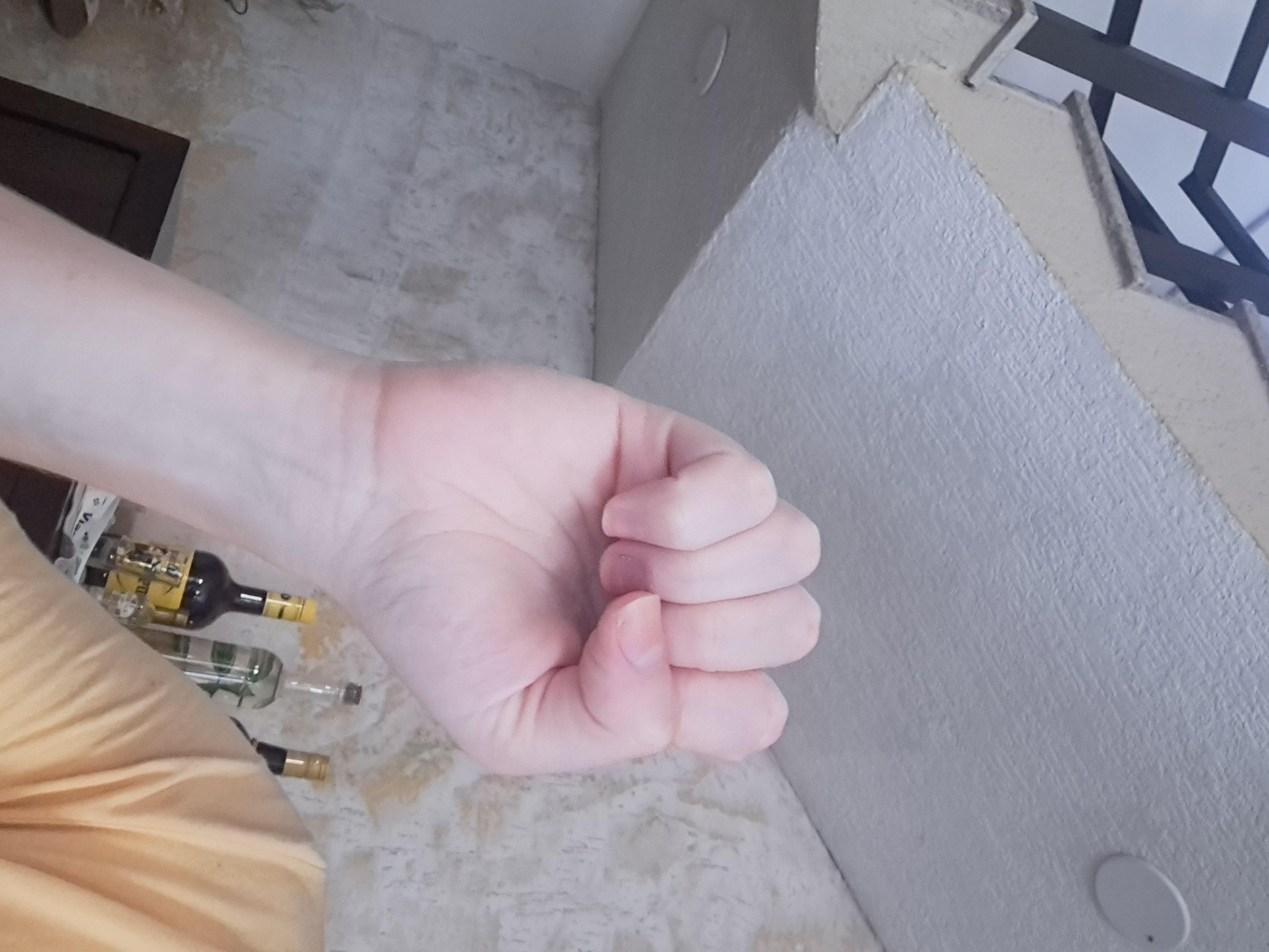S: (451, 327, 1058, 703)
